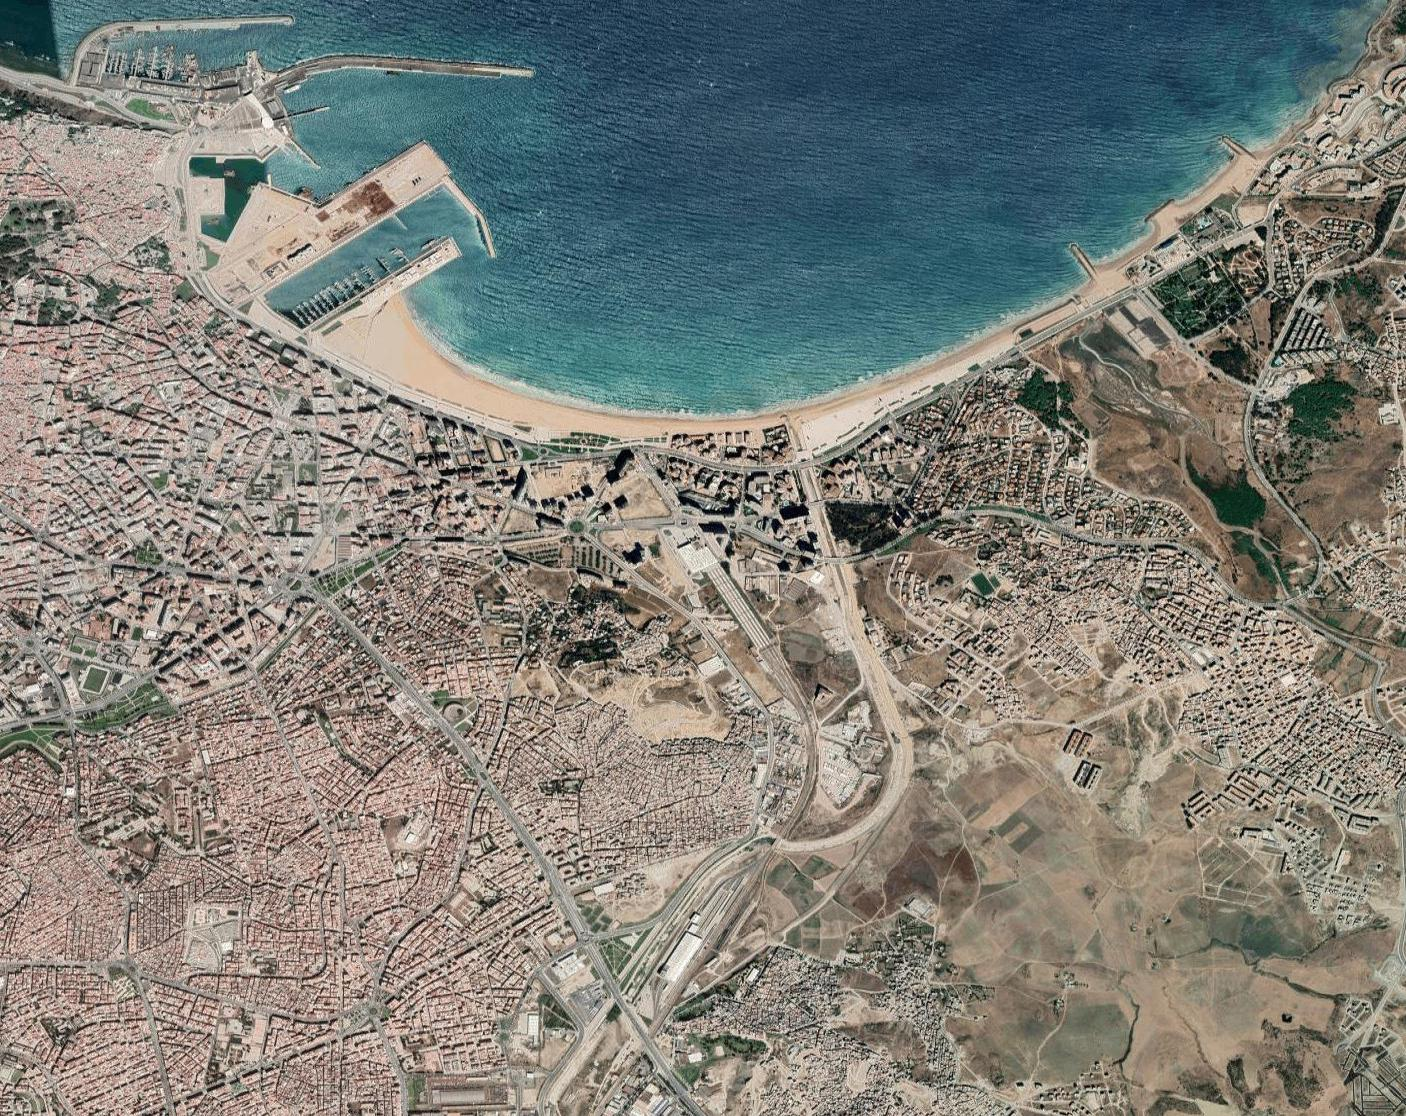harbor: (57, 11, 550, 345)
motorway: (444, 731, 601, 948), (583, 948, 710, 1116), (308, 587, 454, 731)
train_station: (673, 535, 773, 655)
